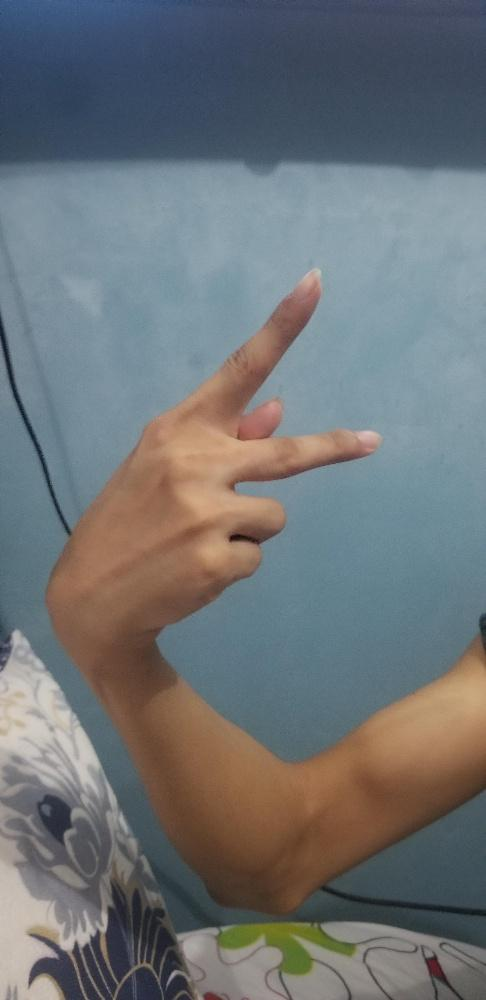k: (41, 263, 383, 668)
